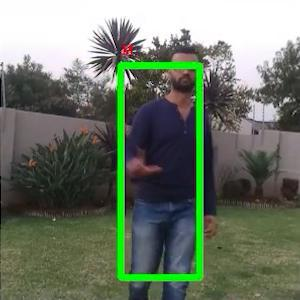land_hand: (119, 139, 164, 183)
